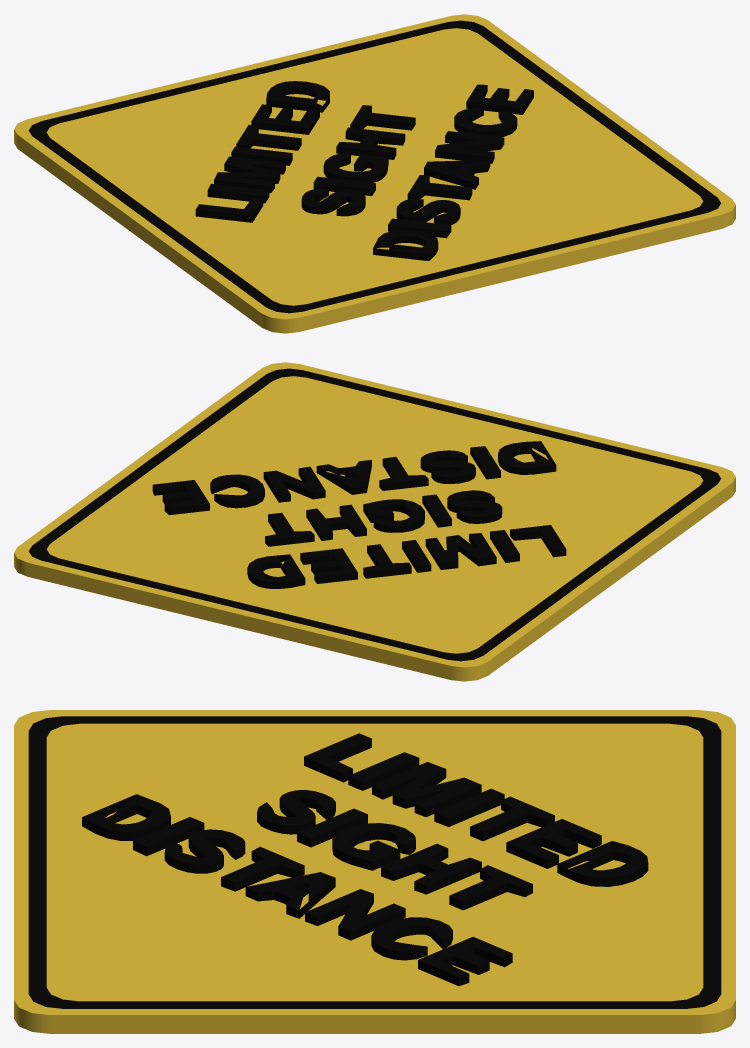
Rendered from limited_sight_distance_sign.fbx.
3 renders of one model, top to bottom at view 1: azimuth 30°, elevation 25°; view 2: azimuth 150°, elevation 25°; view 3: azimuth 270°, elevation 25°, orthographic. The views are drawn at different scales.
Visible parts, largest first — view 1: square_yellow_sign, LimitedSightDistance; view 2: square_yellow_sign, LimitedSightDistance; view 3: square_yellow_sign, LimitedSightDistance.
Boxes of the visible parts, left/top/right/bottom form: square_yellow_sign: left=14, top=14, right=735, bottom=333; LimitedSightDistance: left=195, top=81, right=533, bottom=260; square_yellow_sign: left=14, top=362, right=735, bottom=681; LimitedSightDistance: left=152, top=441, right=566, bottom=588; square_yellow_sign: left=14, top=710, right=735, bottom=1033; LimitedSightDistance: left=82, top=733, right=648, bottom=985.
Bounding box in the file's own units: 70.96 × 3.03 × 70.96.
